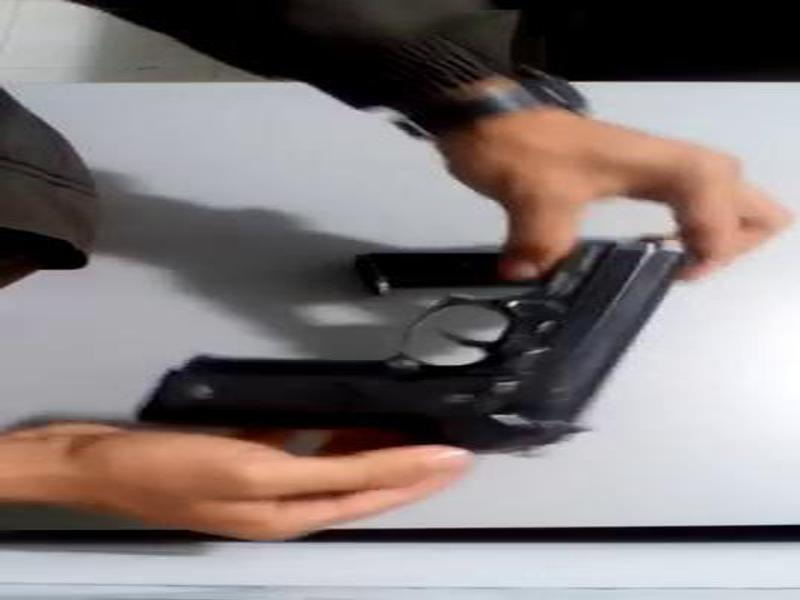Pistola: (153, 204, 697, 448)
